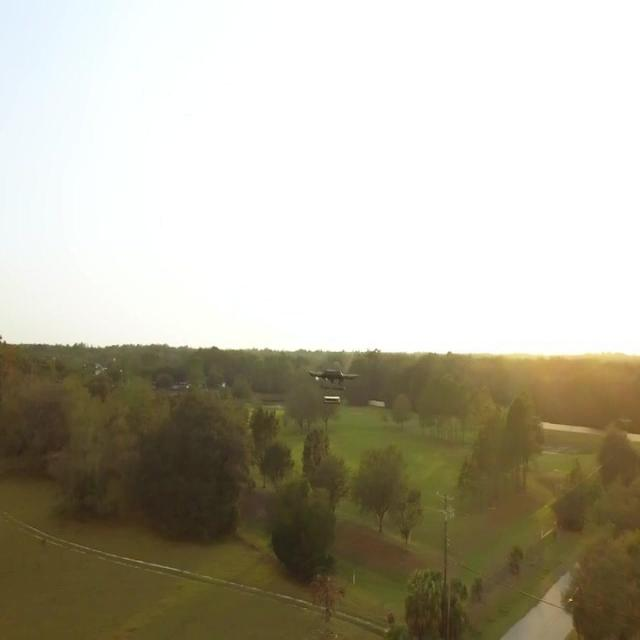UAV: (307, 369, 360, 404)
